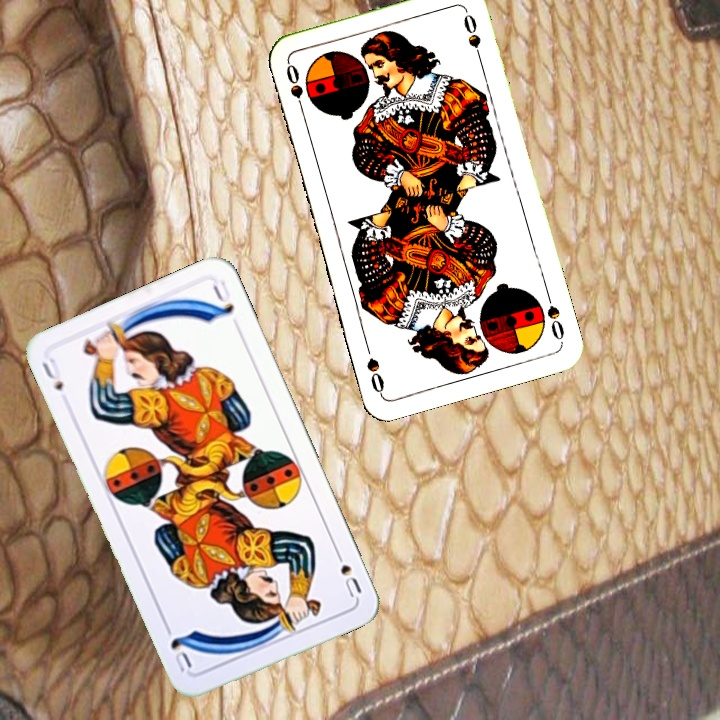SO: (535, 287, 567, 345), (282, 59, 307, 117)
SU: (330, 544, 364, 600), (38, 355, 66, 394)
